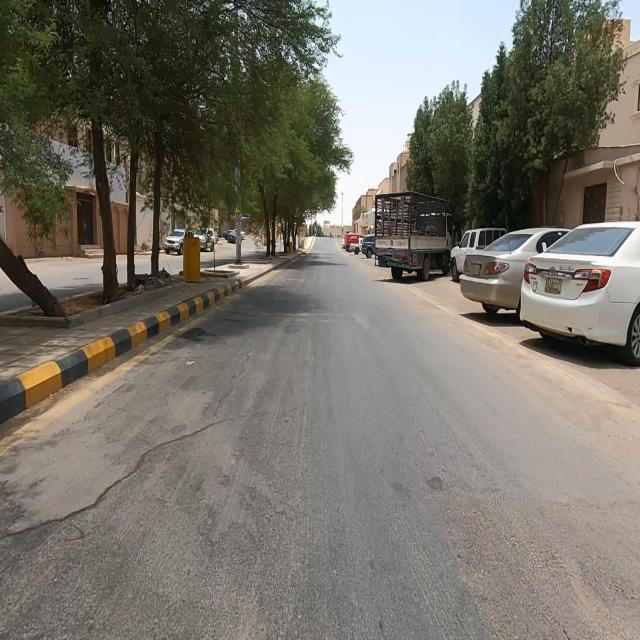debris: (171, 206, 210, 257)
